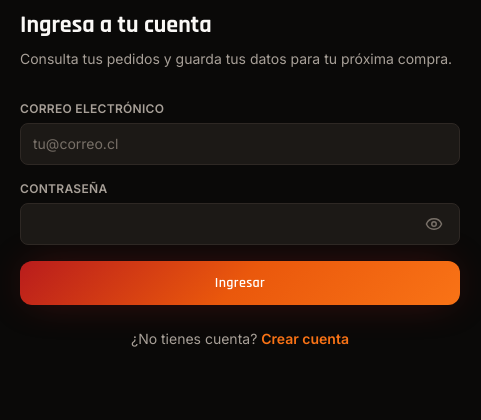
Test case: LoginPage › shows a generic error on wrong credentials, without saying which field was wrong
Type "juan@example.com" into the field labelled "Correo electrónico". click: (240, 144)
box: [20, 123, 460, 165]
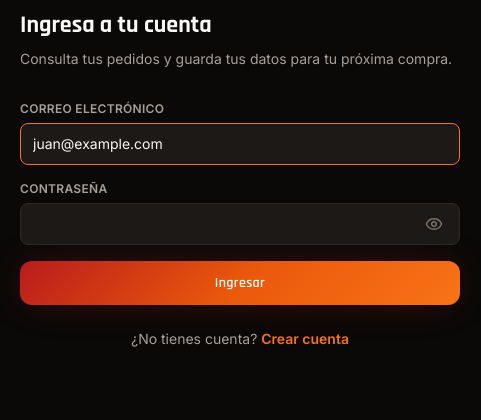
Type "wrong password" into the password field labelled "Contraseña". click: (240, 224)
box: [20, 203, 460, 245]
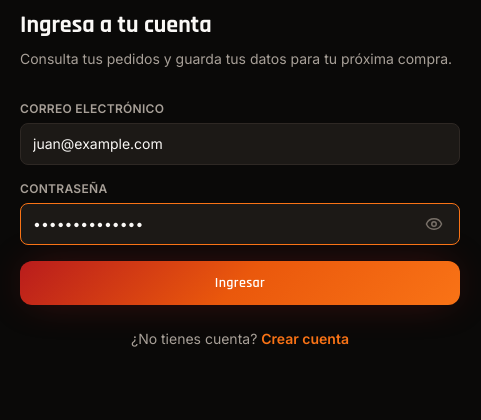
Click the button "Ingresar". click: (240, 283)
box: [20, 261, 460, 305]
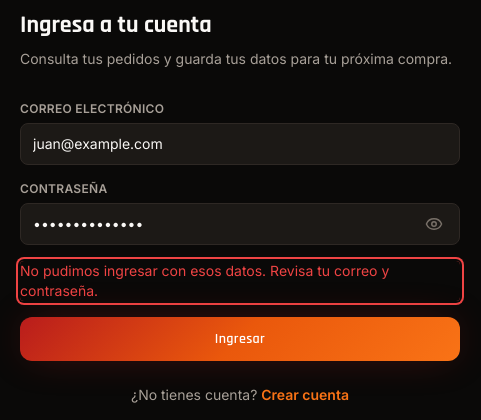
Expected: the message reads "No pudimos ingresar con esos datos. Revisa tu correo y contraseña.", [20, 262, 389, 299]
